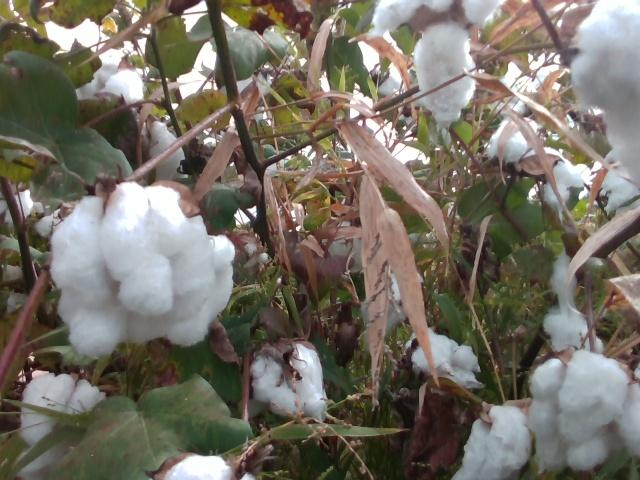cotton_ready: (55, 185, 235, 357), (372, 0, 504, 126), (529, 348, 640, 475), (568, 0, 640, 187), (252, 336, 328, 427), (20, 371, 106, 447), (455, 402, 530, 480), (404, 325, 485, 389), (152, 450, 256, 480)
